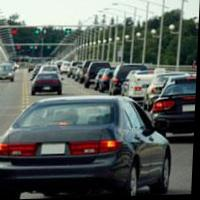License_Plate: (38, 141, 69, 157), (181, 102, 195, 113), (43, 84, 52, 91)
